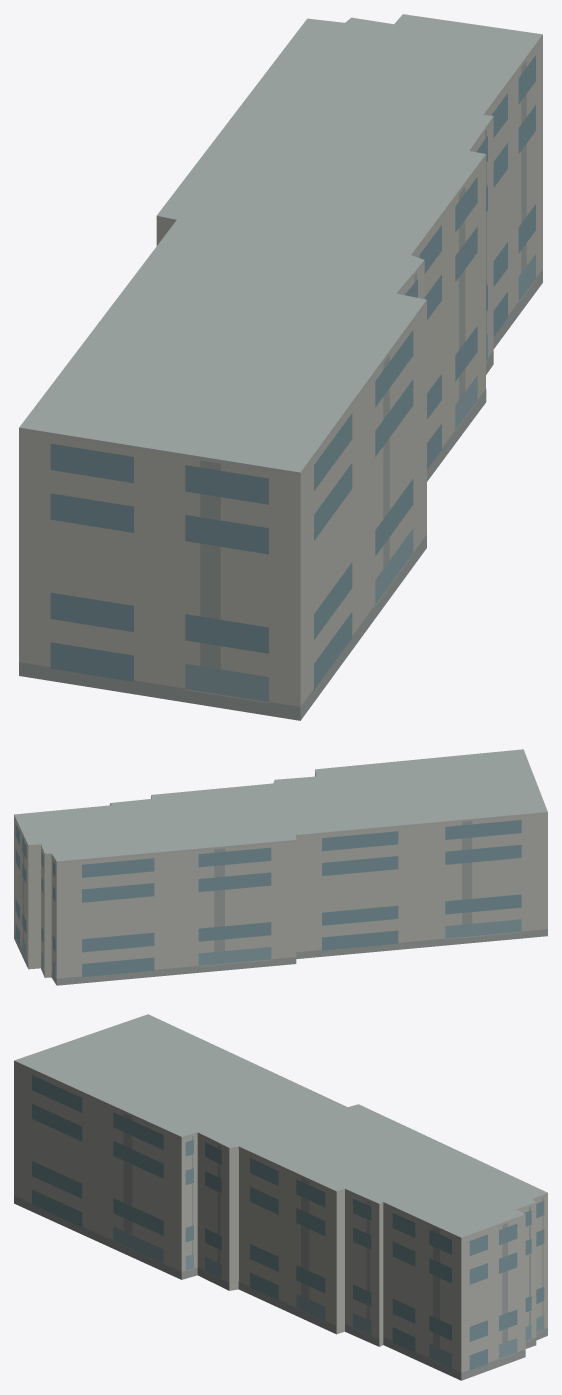
File: survey-upis-32503109.glb
3 views of the same model, one above another, from view 1: azimuth 30°, elevation 25°; view 2: azimuth 150°, elevation 25°; view 3: azimuth 270°, elevation 25° (orthographic). The views are drawn at different scales.
Parts seen in each view (by area): view 1: survey-upis-32503109.tmp; view 2: survey-upis-32503109.tmp; view 3: survey-upis-32503109.tmp.
Part boxes in pixels (left/top/right/bottom): survey-upis-32503109.tmp: left=19, top=14, right=542, bottom=720; survey-upis-32503109.tmp: left=14, top=749, right=547, bottom=985; survey-upis-32503109.tmp: left=14, top=1014, right=547, bottom=1380.
Size of the model in its own units: 51.16 by 15.25 by 51.61.
